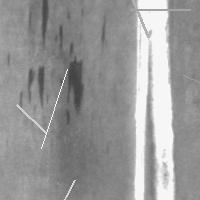scratches: (132, 1, 178, 199), (36, 64, 72, 153), (62, 50, 85, 116), (12, 100, 51, 138), (18, 64, 45, 109), (127, 0, 153, 42), (178, 70, 200, 115), (38, 1, 58, 49), (50, 175, 79, 200), (125, 5, 195, 15), (96, 17, 108, 50)
